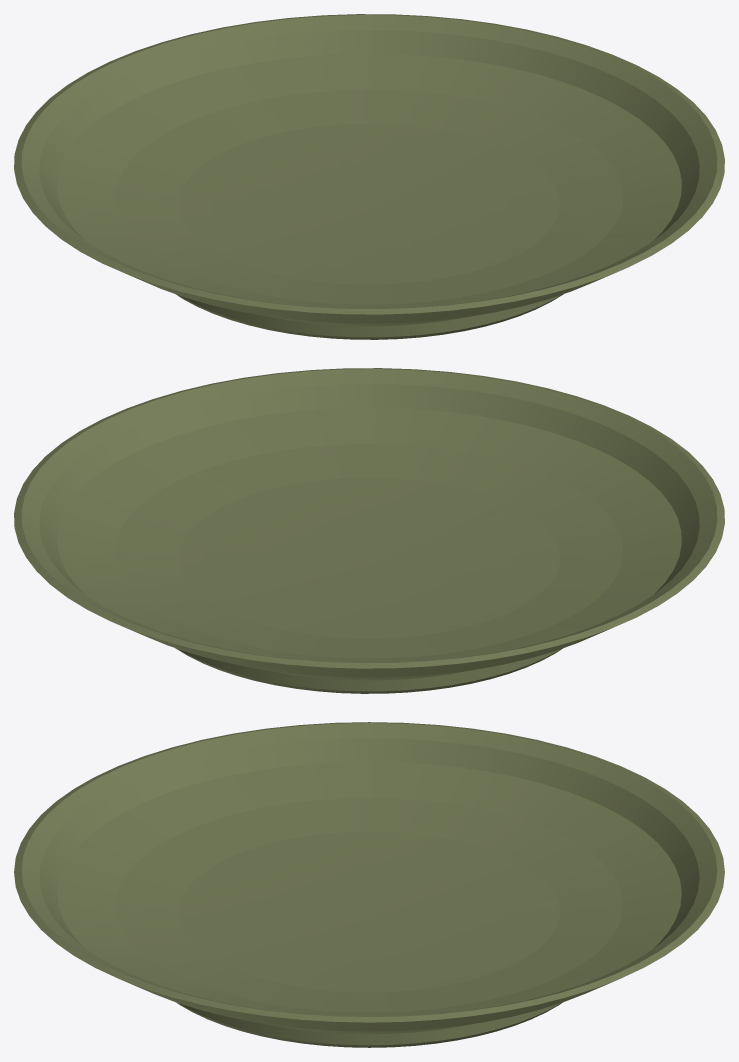
3 renders of one model, top to bottom at view 1: azimuth 30°, elevation 25°; view 2: azimuth 150°, elevation 25°; view 3: azimuth 270°, elevation 25°, orthographic.
Visible parts, largest first — view 1: dish_body; view 2: dish_body; view 3: dish_body.
Part boxes in pixels (left/top/right/bottom): dish_body: left=14, top=14, right=724, bottom=339; dish_body: left=14, top=368, right=724, bottom=693; dish_body: left=14, top=722, right=724, bottom=1047.
Bounding box in the file's own units: 0.28 × 0.0353 × 0.28.
